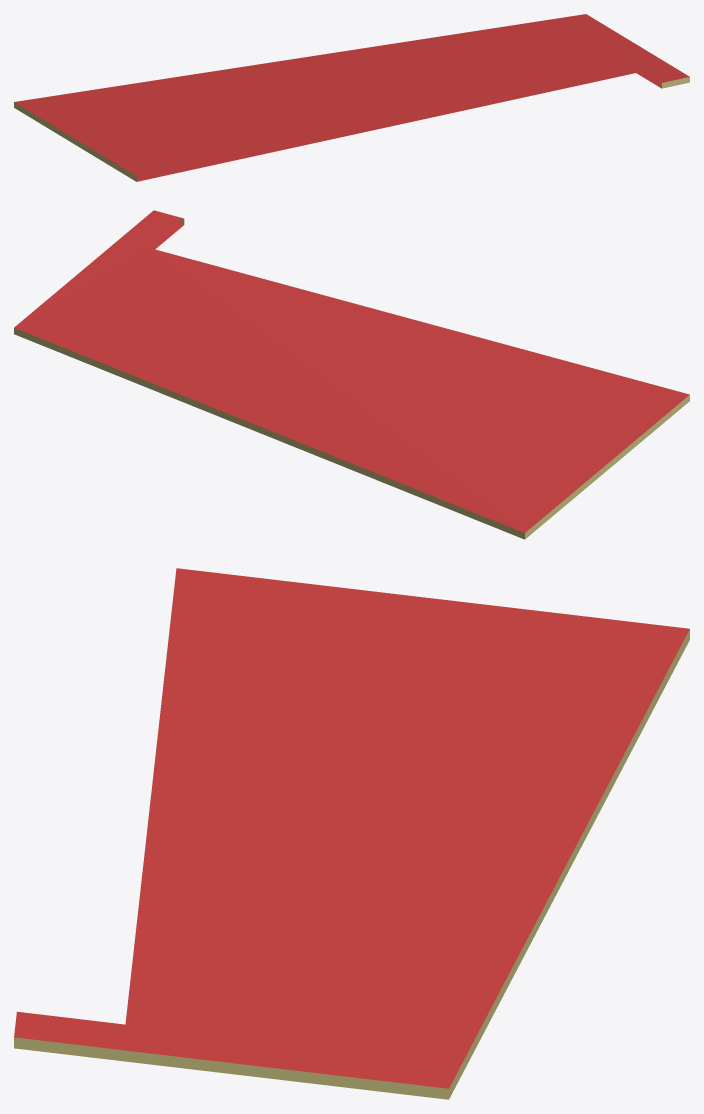
The picture shows the model from 3 angles, top to bottom: view 1: azimuth 30°, elevation 25°; view 2: azimuth 150°, elevation 25°; view 3: azimuth 270°, elevation 25°; orthographic projection. The views are drawn at different scales.
Size of the model in its own units: 9.49 by 5.55 by 0.653.
